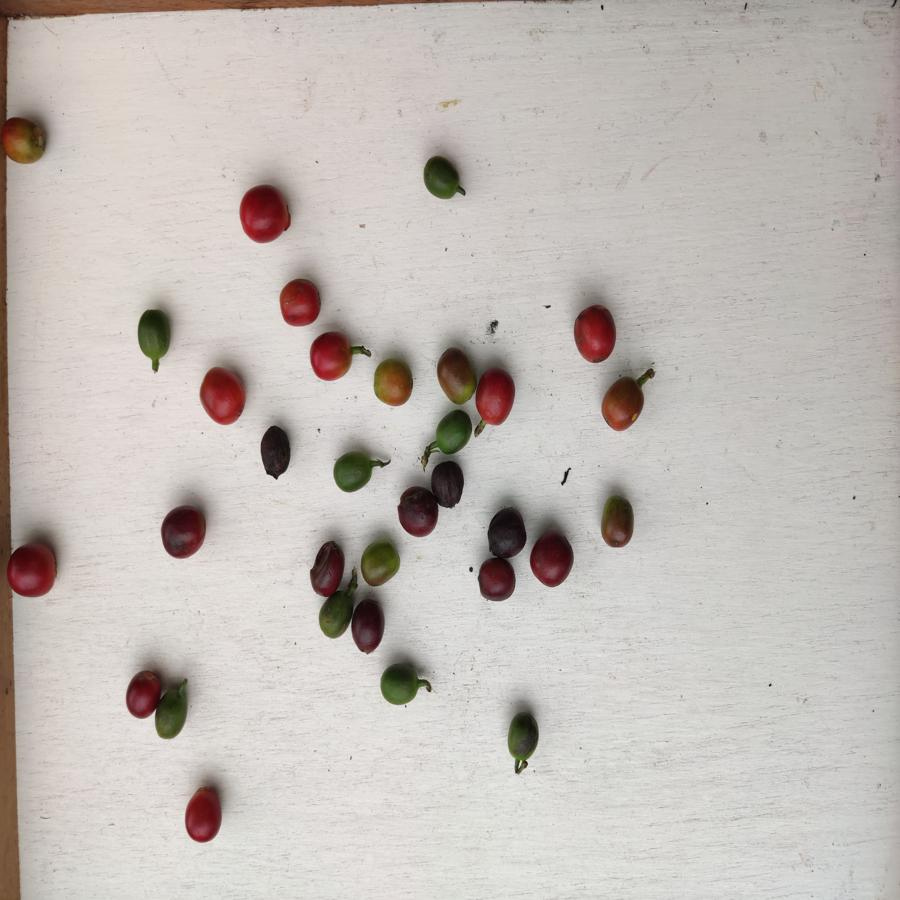Inmaduro: (419, 151, 467, 209), (133, 306, 174, 363), (504, 709, 541, 767), (157, 683, 192, 744), (378, 662, 423, 708), (433, 411, 475, 457), (332, 452, 374, 493), (321, 592, 351, 637)
Maduro: (234, 185, 293, 244), (5, 539, 58, 602), (197, 366, 248, 424), (572, 305, 620, 366), (183, 782, 225, 846), (475, 368, 519, 427), (277, 276, 323, 329), (309, 331, 354, 381)
Pinton: (434, 347, 478, 408), (602, 375, 648, 432), (2, 112, 48, 165), (598, 493, 637, 549), (372, 358, 415, 407), (360, 541, 403, 589)
Sobremaduro: (530, 528, 575, 595), (158, 504, 207, 559), (398, 486, 439, 538), (306, 541, 346, 594), (352, 597, 387, 657), (486, 508, 527, 558), (257, 425, 293, 481), (475, 558, 517, 604), (432, 458, 468, 510), (126, 669, 160, 722)
